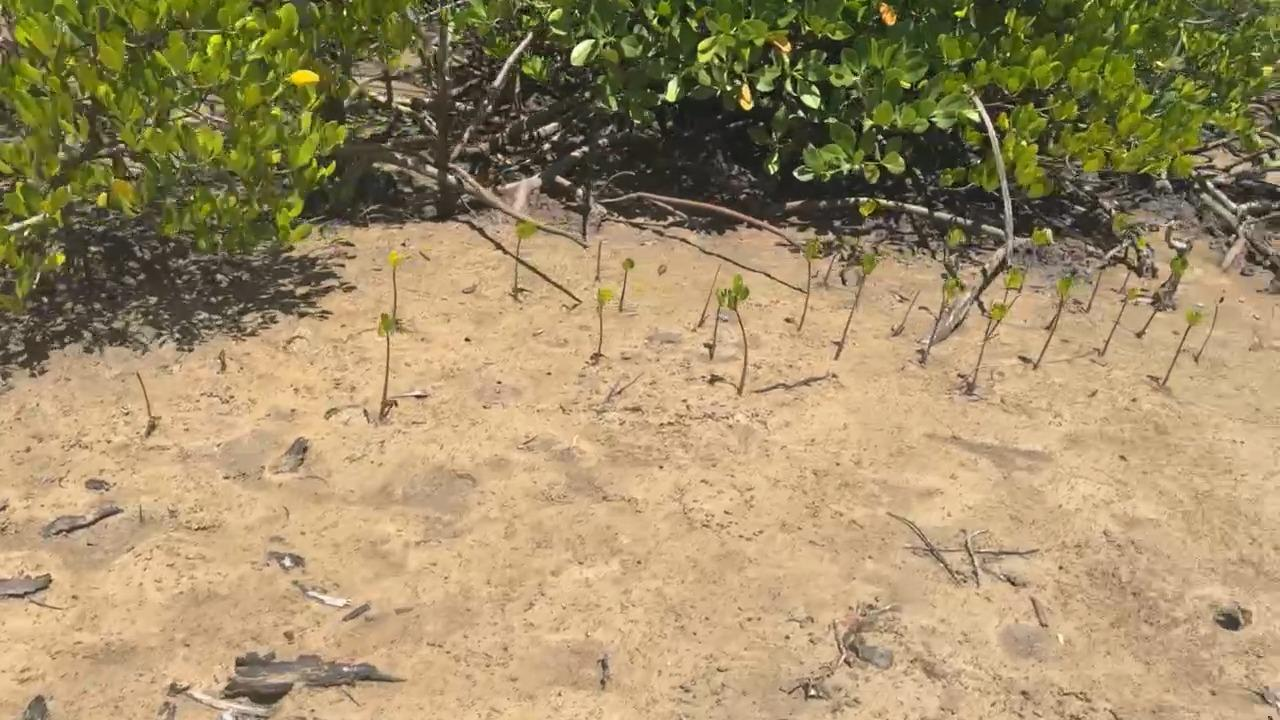Tree: (834, 253, 879, 360), (1032, 277, 1075, 370), (716, 275, 749, 396), (1138, 257, 1188, 336), (970, 302, 1007, 393), (1163, 310, 1204, 386), (1100, 286, 1141, 356), (985, 268, 1023, 341), (925, 279, 959, 355), (1018, 225, 1053, 292), (797, 237, 821, 329), (377, 314, 395, 420), (1195, 298, 1224, 363), (515, 222, 539, 298), (1119, 236, 1146, 293), (698, 264, 722, 327), (594, 289, 613, 354), (944, 229, 966, 280), (388, 250, 404, 317), (618, 258, 636, 313), (1046, 294, 1073, 329), (708, 305, 722, 358), (1086, 272, 1103, 313), (137, 371, 151, 418), (596, 241, 604, 280)
